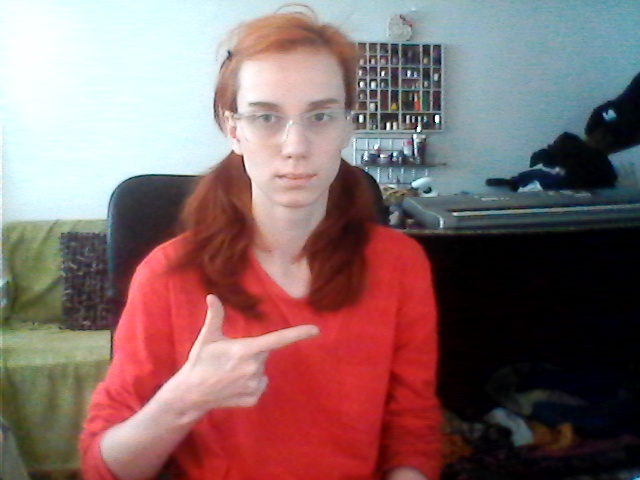dva_dve: (193, 293, 322, 413)
